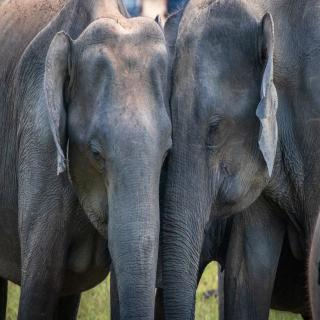Elephant: (0, 0, 175, 320), (160, 0, 320, 320)
